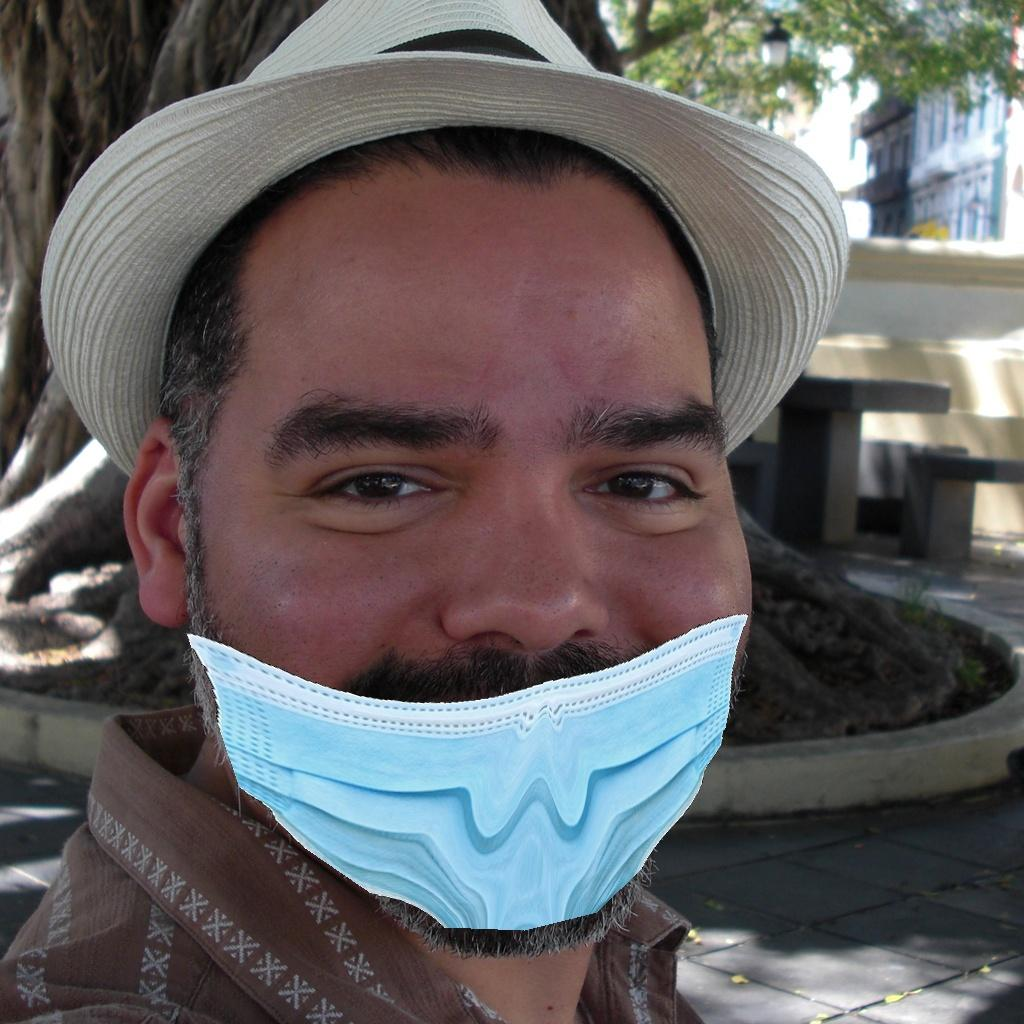Máscara Incorreta: (213, 241, 737, 911)
